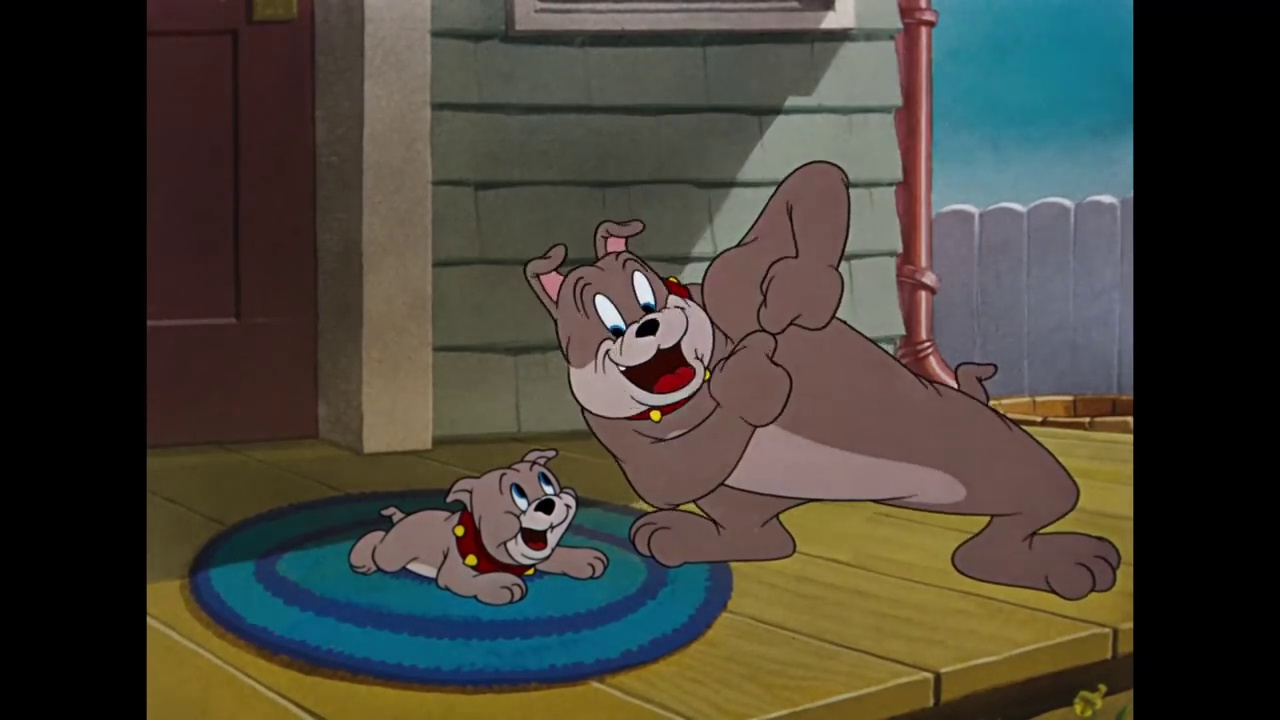spike: (519, 215, 718, 422)
